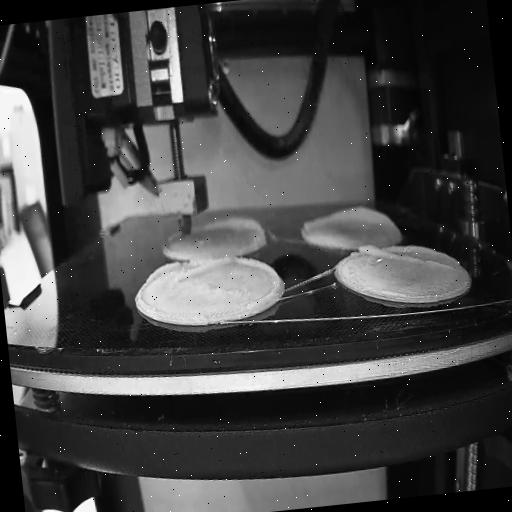over_extrusion: (356, 234, 456, 284), (300, 200, 394, 236), (232, 252, 284, 309), (204, 212, 268, 254), (146, 257, 230, 287)
